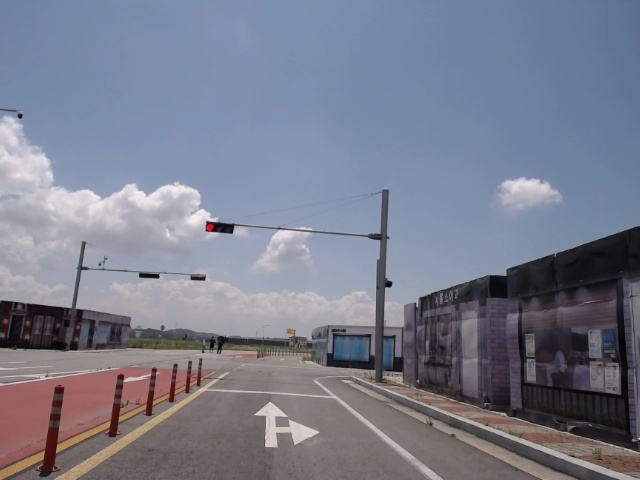red_3: (204, 221, 234, 235)
